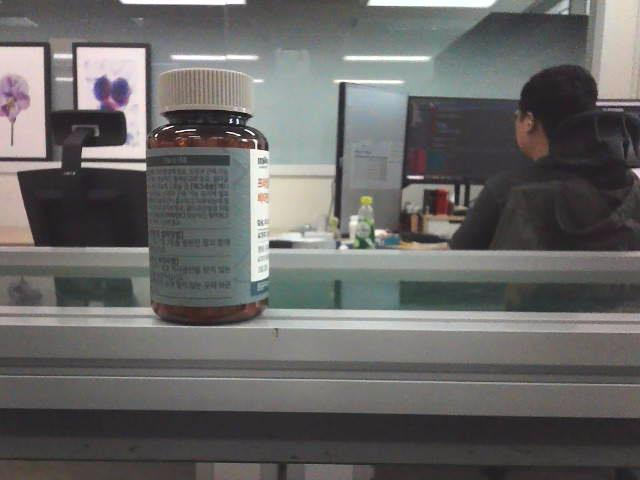labeled: (144, 66, 274, 329)
